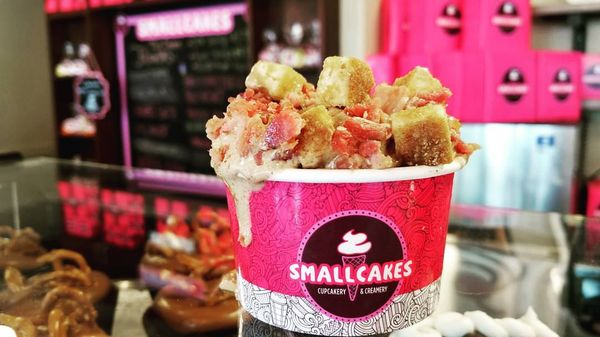pizza: (206, 59, 479, 332)
